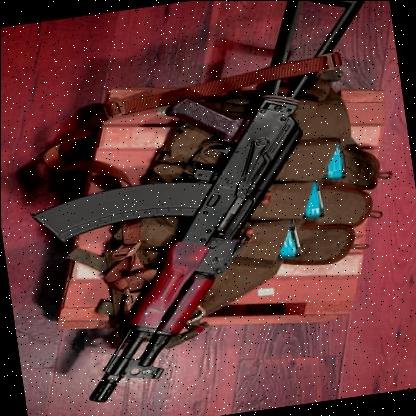rifle: (14, 0, 416, 403)
